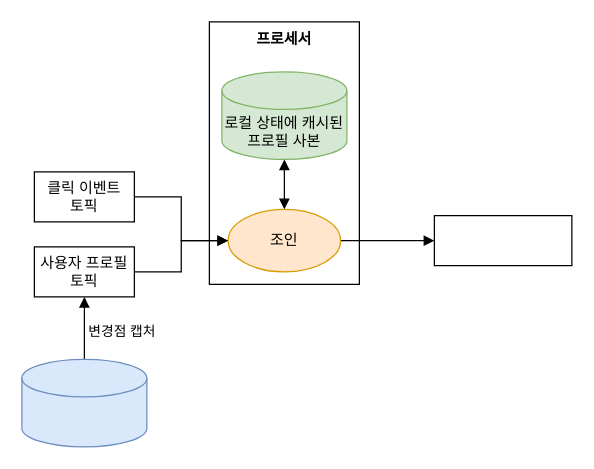
This 594x469 diagram has some shape labels left out. Each missing label, with the centre of its shape:
사용자 프로필 DB: point 84,402
확장된 클릭 이벤트 토픽: point 502,240
